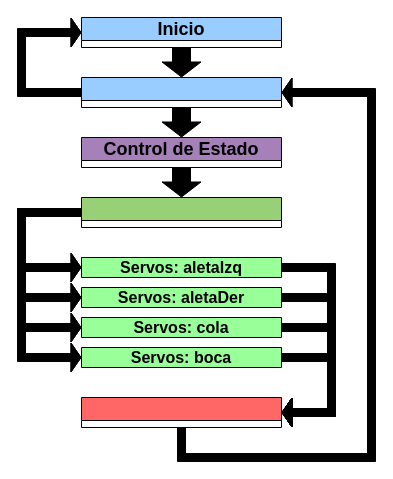
This 393x479 diagram has some shape labels left out. The shapes that lost their labels are listed below. From the top down, each one's centre as x and y in pixels, then its label:
At (181,92): "Boton".
At (181,212): "Movimiento de Servos".
At (181,412): "Movimiento de Pez".
